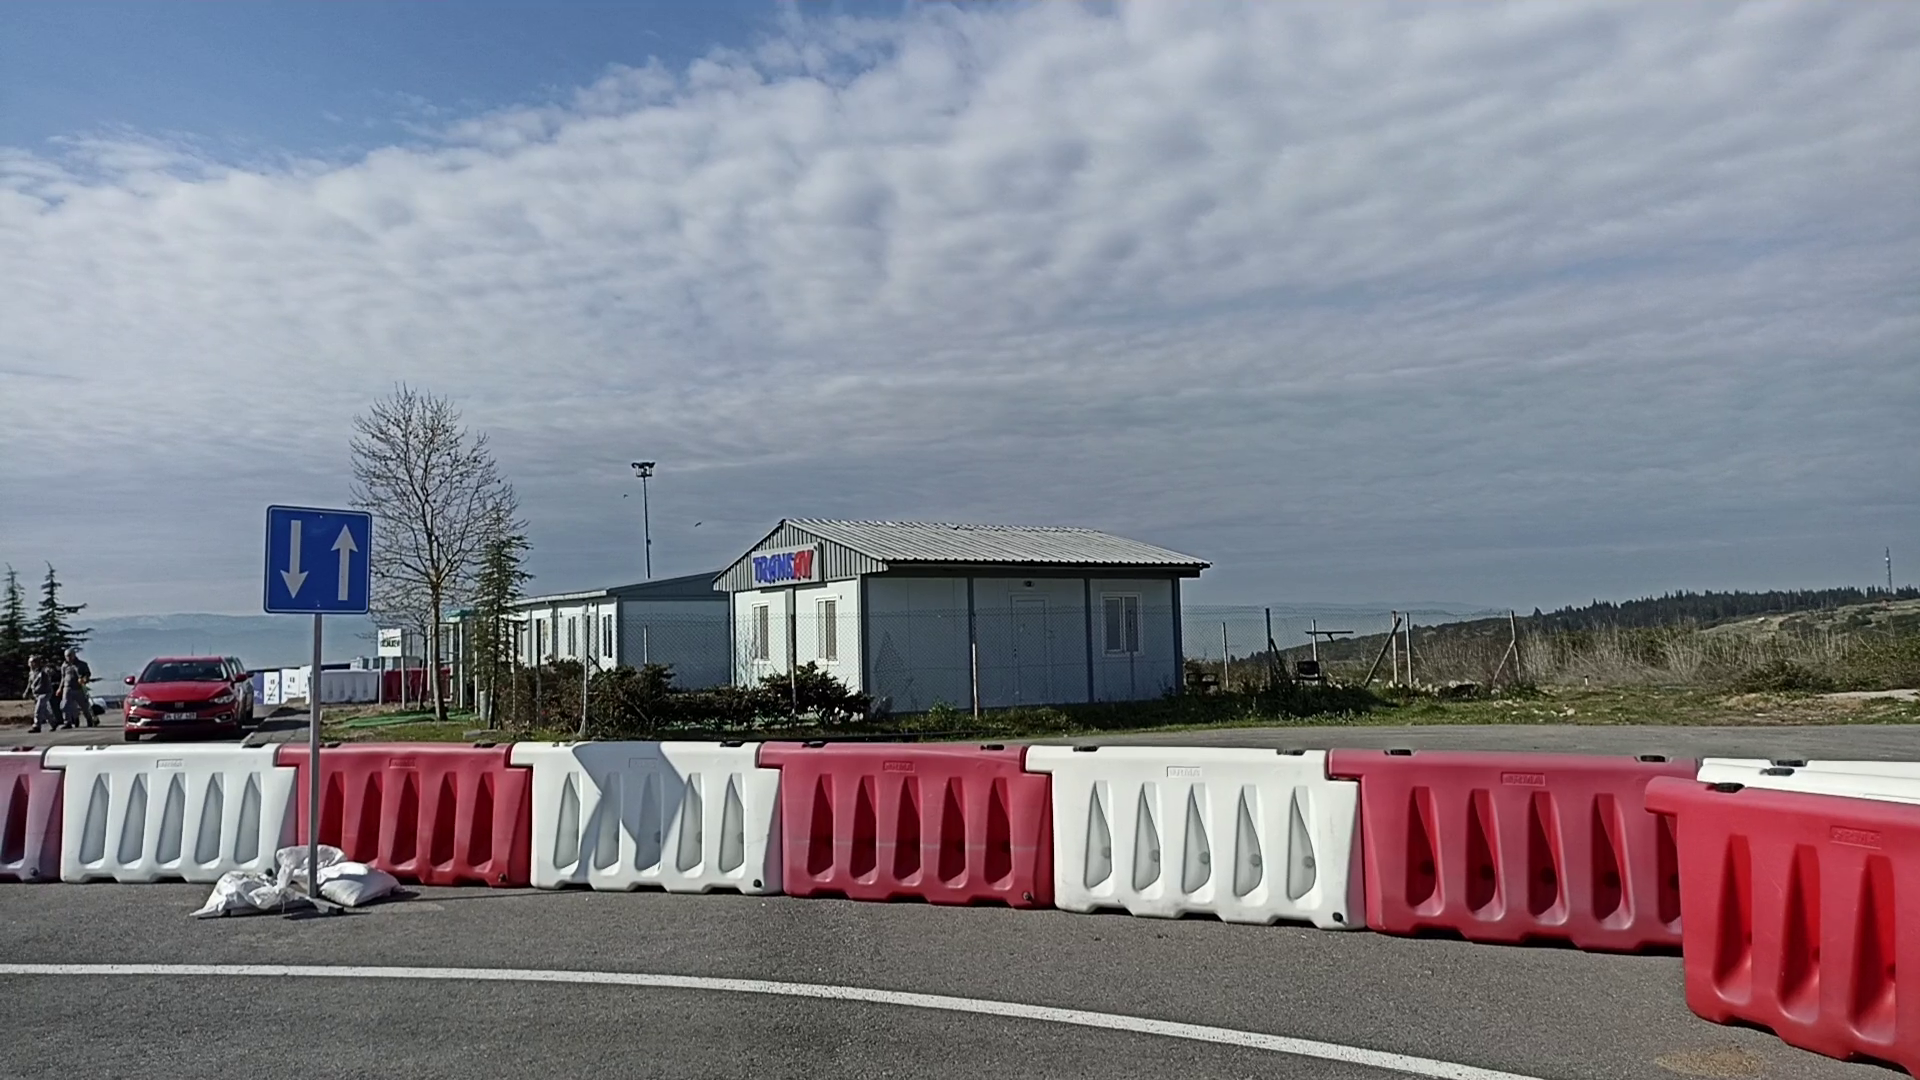oneway: (261, 502, 375, 617)
